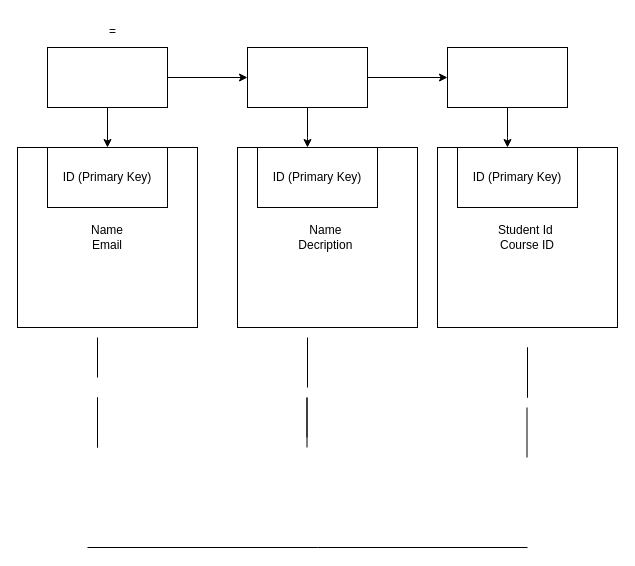
This 635x566 diagram has some shape labels left out. The centre of each missing label's shape, as x and y in pixels:
"Course" belongs at point 307,77.
"Enrollment" belongs at point 507,77.
"Student" belongs at point 107,77.
